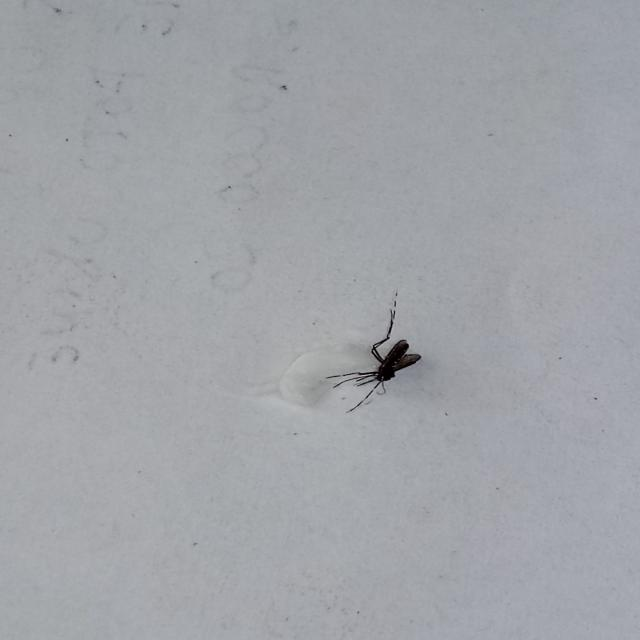albopictus: (321, 288, 433, 412)
